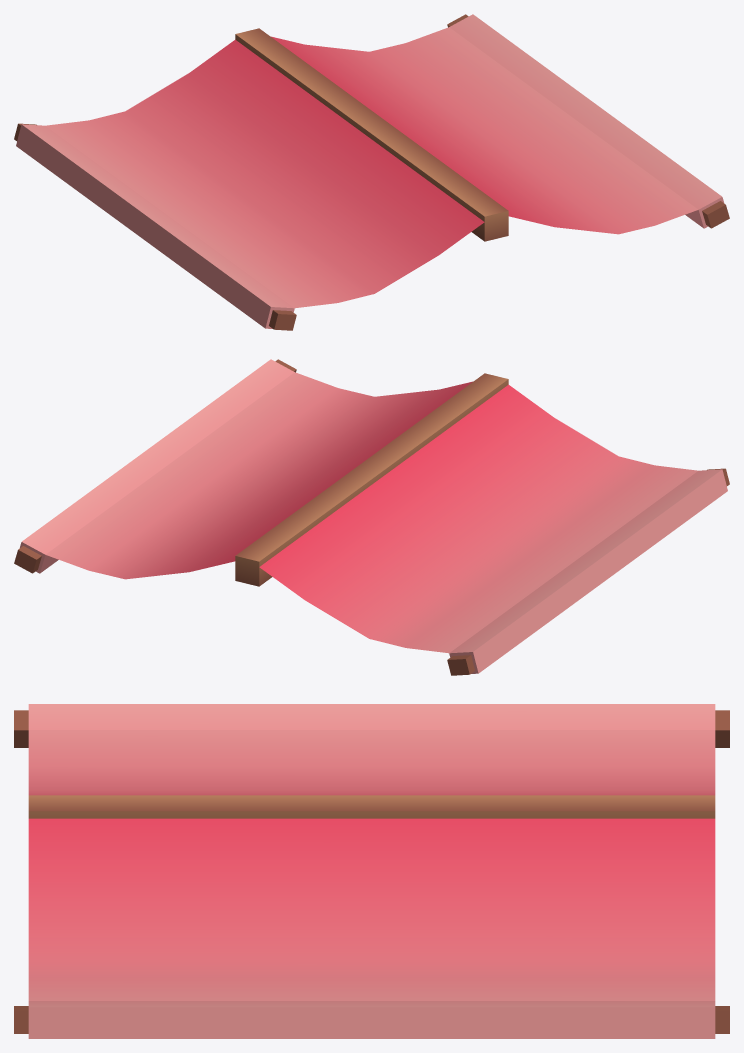
The model's file is Parasol07.fbx.
The picture shows the model from 3 angles, top to bottom: view 1: azimuth 30°, elevation 25°; view 2: azimuth 150°, elevation 25°; view 3: azimuth 270°, elevation 25°; orthographic projection. The views are drawn at different scales.
Parts seen in each view (by area): view 1: Parasol07; view 2: Parasol07; view 3: Parasol07.
Boxes of the visible parts, x1,y1,x2,y2 form: Parasol07: (14, 14, 729, 330); Parasol07: (14, 359, 729, 675); Parasol07: (14, 704, 729, 1038).
Bounding box in the file's own units: 1.69 × 0.2294 × 1.65.
Materials: 1 (1 with a texture image).
